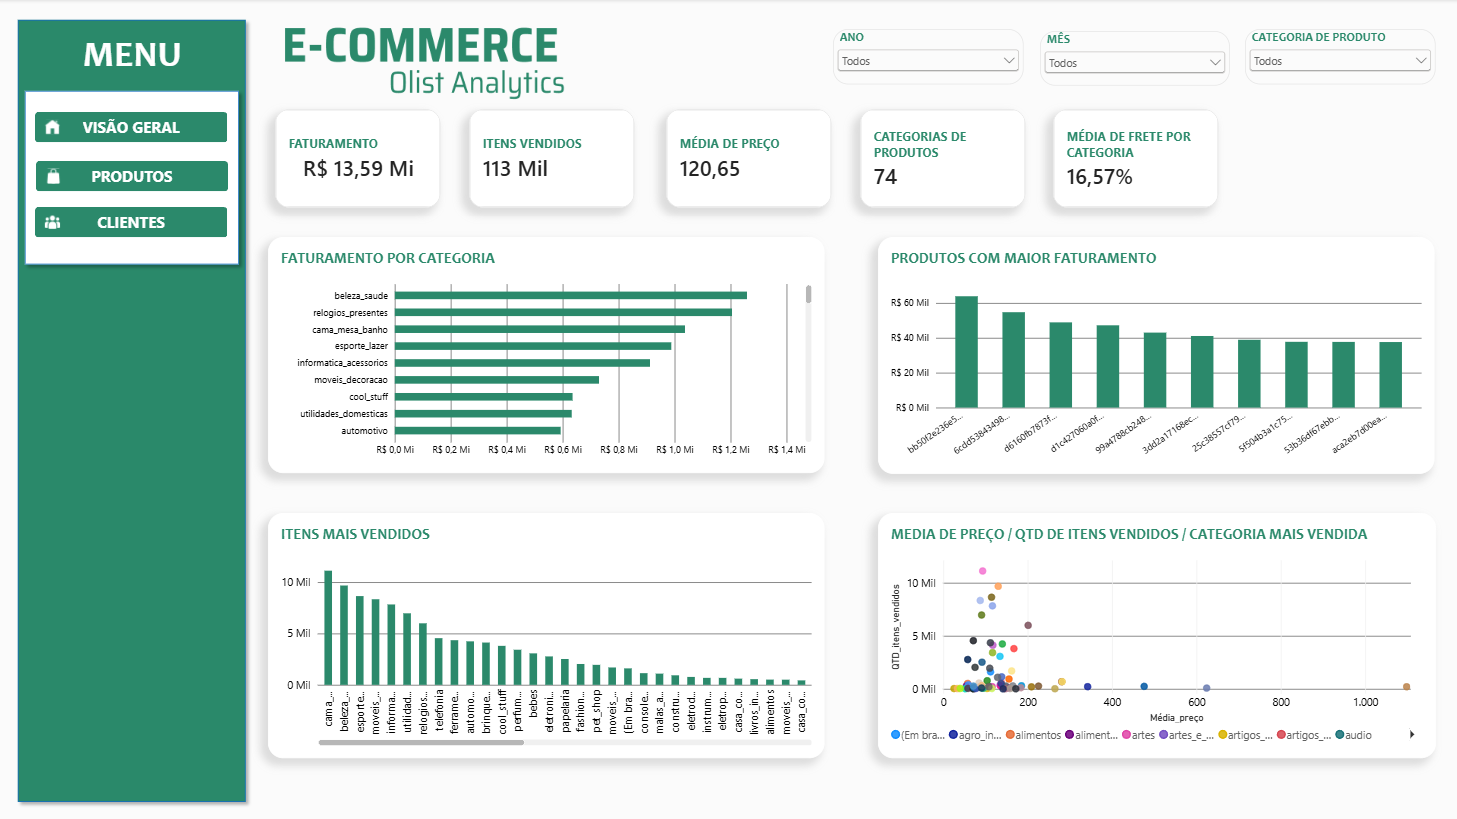

Layout of this report page (visuals, bound fields, positions):
{"tool":"powerbi","page":{"name":"PRODUTOS","canvas":[1920,1080],"ordinal":1},"visuals":[{"type":"shape","box":[14,18,318,1048],"z":0},{"type":"cardVisual","fields":{"Data":["MEDIDAS.Faturamento por Pagamento"]},"box":[361.7,145,218.3,130],"z":1000},{"type":"cardVisual","fields":{"Data":["MEDIDAS.QTD_itens_vendidos"]},"box":[618.3,145,218.3,130],"z":2000},{"type":"cardVisual","fields":{"Data":["MEDIDAS.Média_preço"]},"box":[876.7,145,218.3,130],"z":3000},{"type":"cardVisual","fields":{"Data":["MEDIDAS.Categorias_cadastradas"]},"box":[1133.3,145,218.3,130],"z":4000},{"type":"clusteredBarChart","title":"FATURAMENTO POR CATEGORIA","fields":{"Category":["Produtos.product_category_name"],"Y":["MEDIDAS.Faturamento por Pagamento"]},"box":[353.3,313.3,733,311],"z":5000},{"type":"clusteredColumnChart","title":"PRODUTOS COM MAIOR FATURAMENTO","fields":{"Category":["Produtos.product_id"],"Y":["MEDIDAS.Faturamento por Pagamento"]},"box":[1156.7,313.3,733.3,311.7],"z":6000},{"type":"columnChart","title":"ITENS MAIS VENDIDOS","fields":{"Category":["Produtos.product_category_name"],"Y":["MEDIDAS.QTD_itens_vendidos"]},"box":[353.3,676.7,733.3,323.3],"z":7000},{"type":"scatterChart","title":"MEDIA DE PREÇO / QTD DE ITENS VENDIDOS / CATEGORIA MAIS VENDIDA","fields":{"Series":["Produtos.product_category_name"],"X":["MEDIDAS.Média_preço"],"Y":["MEDIDAS.QTD_itens_vendidos"]},"box":[1156.7,676.7,735,323.3],"z":8000},{"type":"cardVisual","fields":{"Data":["MEDIDAS.% Frete_categoria"]},"box":[1386.7,145,218.3,130],"z":9000},{"type":"slicer","fields":{"Values":["Calendario.Ano"]},"box":[1096.7,40,251,72.6],"z":10000},{"type":"slicer","fields":{"Values":["Calendario.Ano_Mes"]},"box":[1370,41.7,250,72],"z":11000},{"type":"slicer","fields":{"Values":["Produtos.product_category_name"]},"box":[1640,40,251,72.6],"z":12000},{"type":"shape","box":[23.3,112.2,300,246.7],"z":13000},{"type":"actionButton","box":[46.7,148.3,253.3,40],"z":14000},{"type":"actionButton","title":"PRODUTOS","box":[47,213,253,40],"z":15000},{"type":"actionButton","box":[46.7,273.3,253.3,40],"z":16000},{"type":"image","box":[254,18,678,170],"z":17000},{"type":"textbox","box":[1640,145,251,150],"z":18000},{"type":"textbox","box":[46,42,256,72],"z":19000}]}

Visuals, with their boxes in screenshot pixels (x1, y1, x2, y2), scaled from the page's 1920x1080 canvas onto the 1457x819 screenshot:
shape: detection(11, 14, 252, 808)
cardVisual - MEDIDAS.Faturamento por Pagamento: detection(274, 110, 440, 209)
cardVisual - MEDIDAS.QTD_itens_vendidos: detection(469, 110, 635, 209)
cardVisual - MEDIDAS.Média_preço: detection(665, 110, 831, 209)
cardVisual - MEDIDAS.Categorias_cadastradas: detection(860, 110, 1026, 209)
"FATURAMENTO POR CATEGORIA" clusteredBarChart: detection(268, 238, 824, 473)
"PRODUTOS COM MAIOR FATURAMENTO" clusteredColumnChart: detection(878, 238, 1434, 474)
"ITENS MAIS VENDIDOS" columnChart: detection(268, 513, 825, 758)
"MEDIA DE PREÇO / QTD DE ITENS VENDIDOS / CATEGORIA MAIS VENDIDA" scatterChart: detection(878, 513, 1436, 758)
cardVisual - MEDIDAS.% Frete_categoria: detection(1052, 110, 1218, 209)
slicer - Calendario.Ano: detection(832, 30, 1023, 85)
slicer - Calendario.Ano_Mes: detection(1040, 32, 1229, 86)
slicer - Produtos.product_category_name: detection(1245, 30, 1435, 85)
shape: detection(18, 85, 245, 272)
actionButton: detection(35, 112, 228, 143)
"PRODUTOS" actionButton: detection(36, 162, 228, 192)
actionButton: detection(35, 207, 228, 238)
image: detection(193, 14, 707, 143)
textbox: detection(1245, 110, 1435, 224)
textbox: detection(35, 32, 229, 86)
